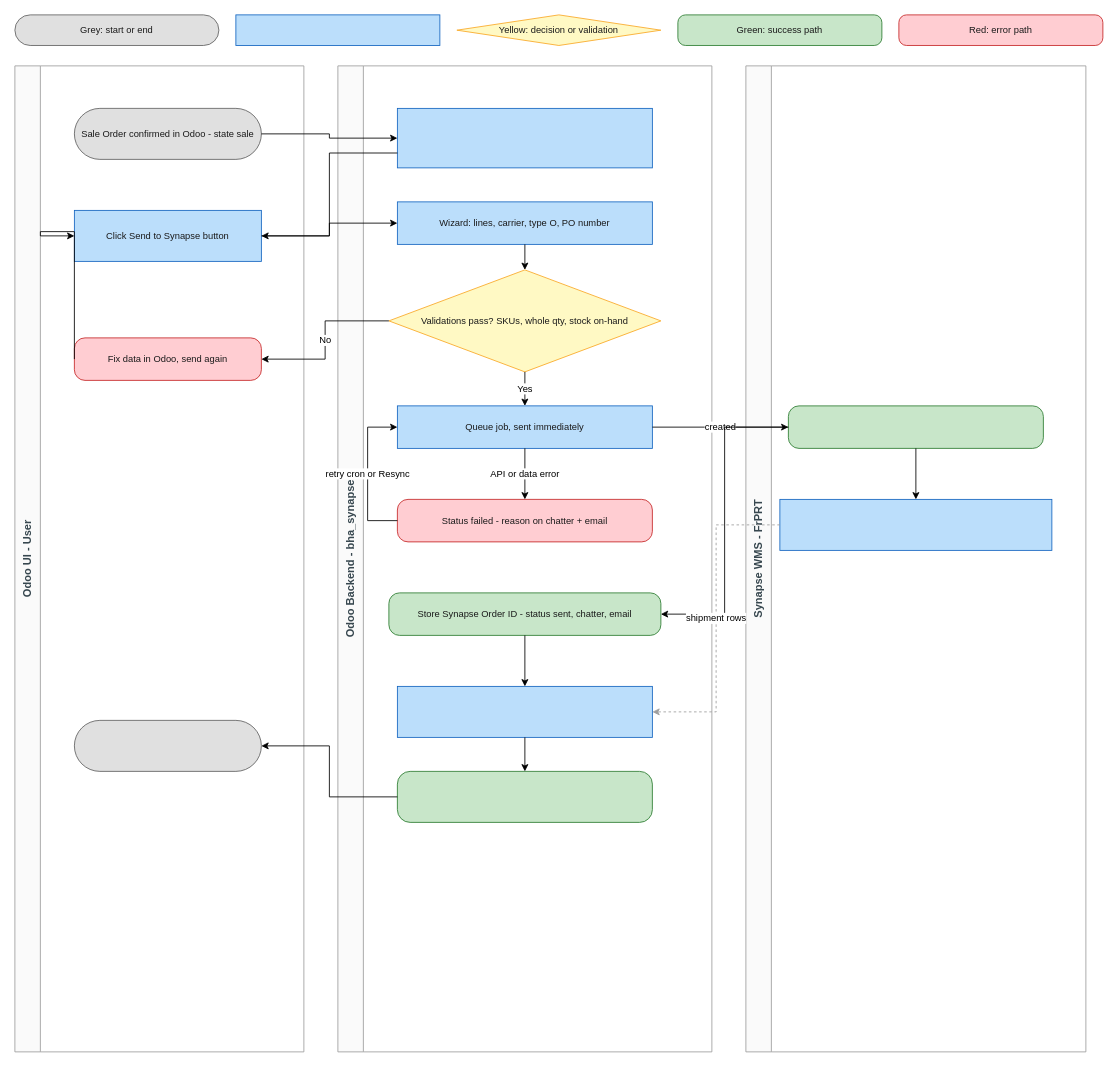
Image size: 1118x1067. Some labels were removed from this diagram. Each missing label, with the centre of its shape:
At confirm: stock check routes dropship lines to Delivery or RFQ: point 524,138
Blue: system or API action: point 337,29
Outbound order created - type O: point 915,426
Shipments cron or Refresh pulls Shipped status: point 524,711
SO shows Synapse status shipped: point 167,745
Status shipped - tracking on delivery: point 524,796
Warehouse picks and ships - status 9 Shipped: point 915,524
